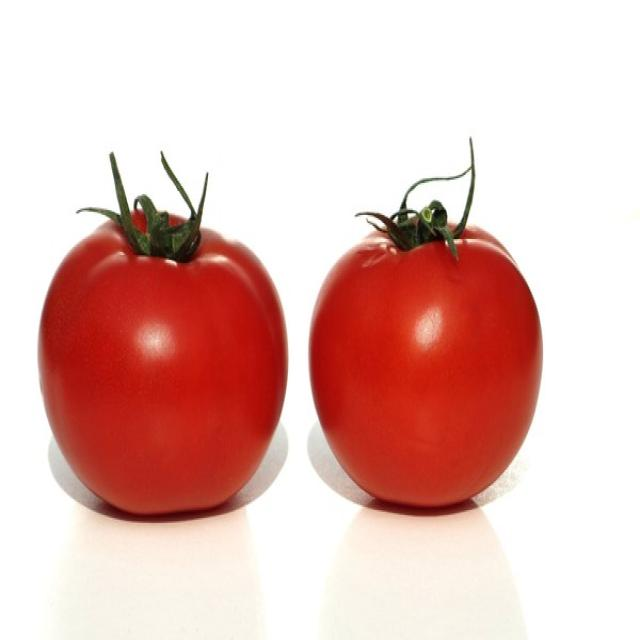ripe tomato: (26, 172, 288, 540), (302, 174, 556, 524)
